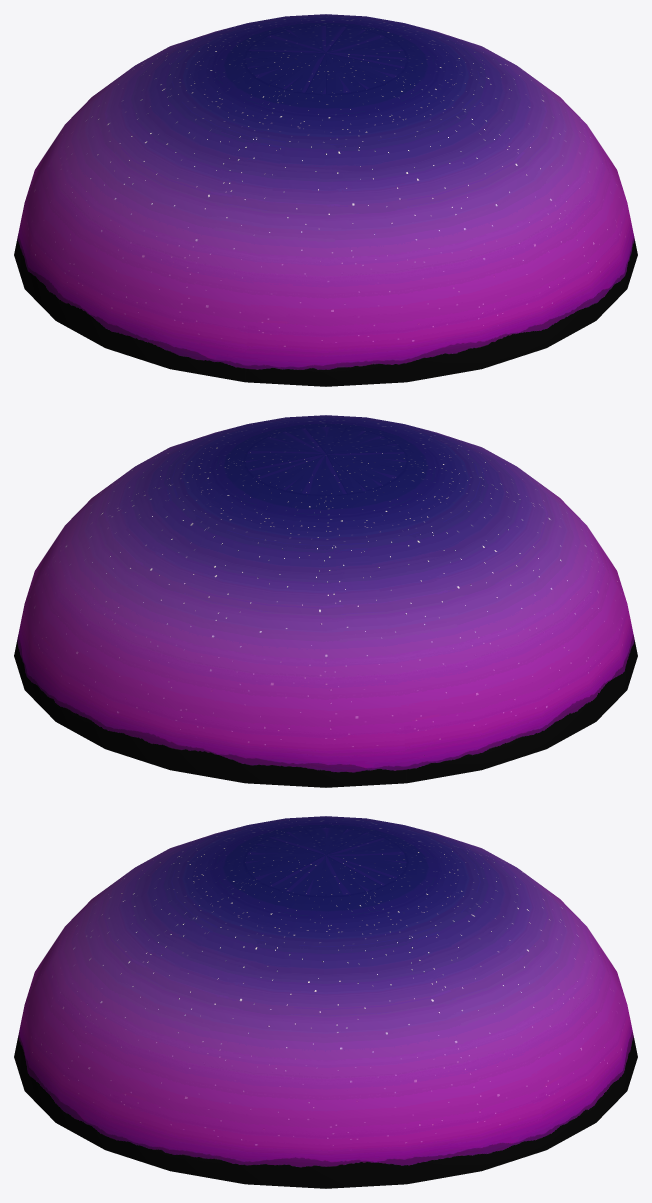
Rendered from sky_02 #448784.fbx.
The picture shows the model from 3 angles, top to bottom: view 1: azimuth 30°, elevation 25°; view 2: azimuth 150°, elevation 25°; view 3: azimuth 270°, elevation 25°; orthographic projection.
Visible parts, largest first — view 1: sky_02; view 2: sky_02; view 3: sky_02.
Part boxes in pixels (x1,y1,x2,y2): sky_02: (14, 14, 637, 386); sky_02: (14, 415, 637, 787); sky_02: (14, 816, 637, 1188).
Bounding box in the file's own units: 2106 × 752 × 2106.
